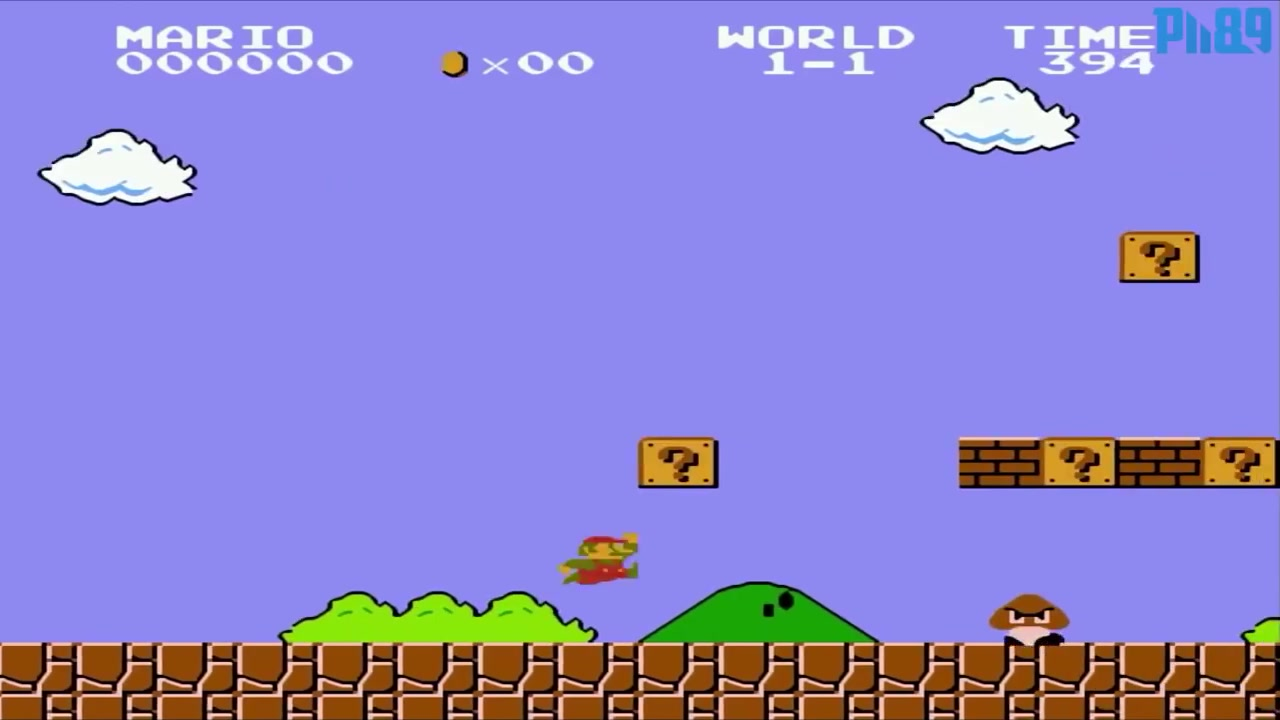mario: (552, 524, 655, 589)
